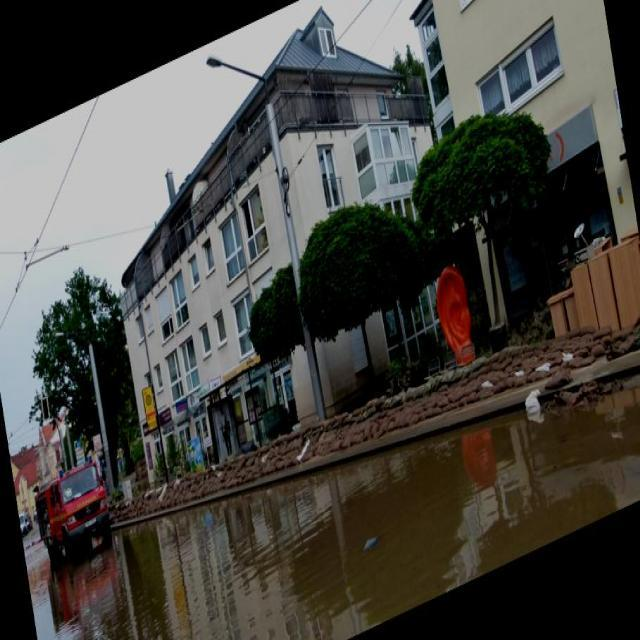flood: (26, 273, 639, 639)
